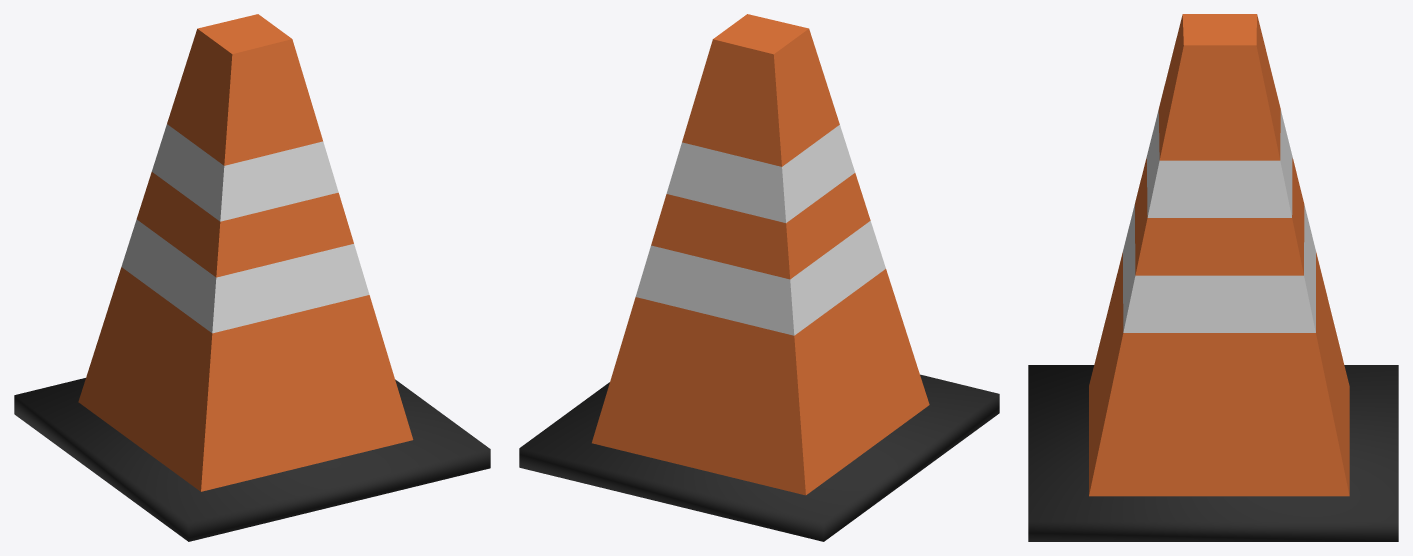
The picture shows the model from 3 angles, left to right: view 1: azimuth 30°, elevation 25°; view 2: azimuth 150°, elevation 25°; view 3: azimuth 270°, elevation 25°; orthographic projection. The views are drawn at different scales.
Parts seen in each view (by area): view 1: Cube.001; view 2: Cube.001; view 3: Cube.001.
Boxes of the visible parts, x1,y1,x2,y2 form: Cube.001: [14, 14, 490, 541]; Cube.001: [519, 14, 999, 541]; Cube.001: [1028, 14, 1398, 541].
Bounding box in the file's own units: 199 × 255 × 199.
